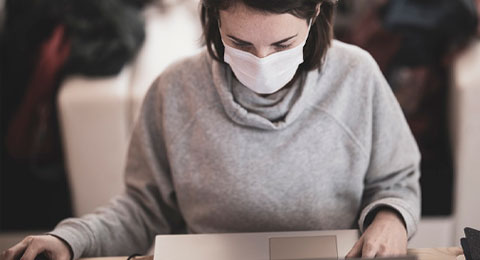with_mask: (211, 4, 321, 96)
